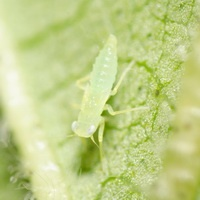insect: (0, 0, 198, 199), (70, 33, 150, 176), (72, 34, 131, 137)
